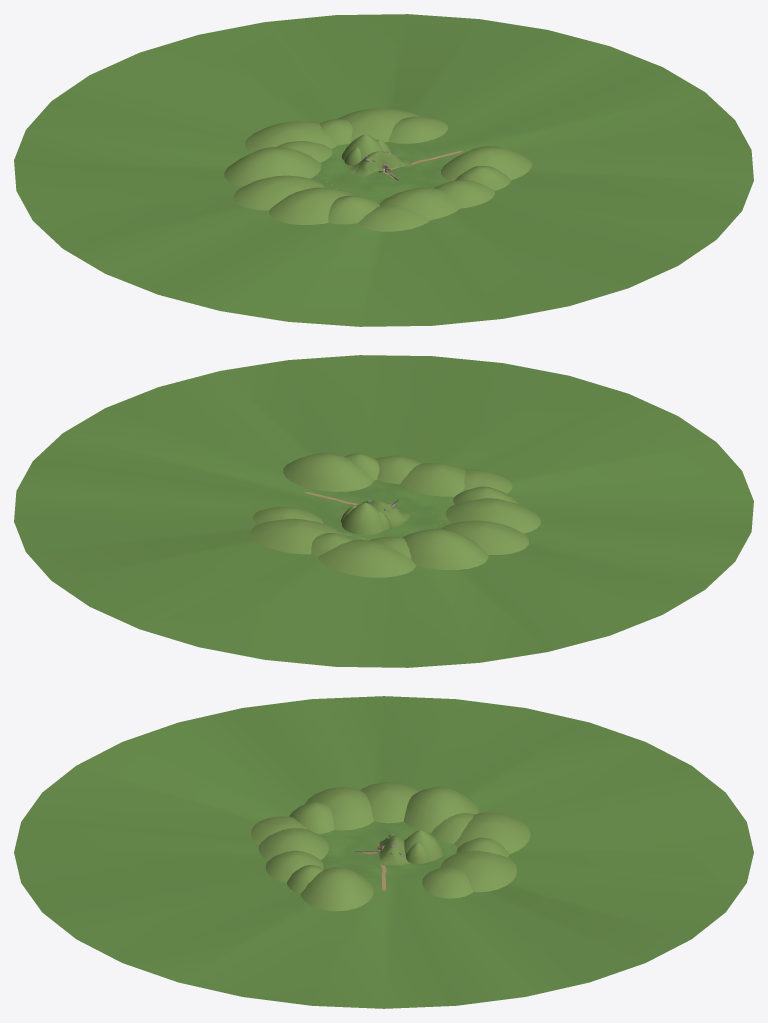
Rendered from village.glb.
The picture shows the model from 3 angles, top to bottom: view 1: azimuth 30°, elevation 25°; view 2: azimuth 150°, elevation 25°; view 3: azimuth 270°, elevation 25°; orthographic projection.
Parts seen in each view (by area): view 1: horizon, ground, caveCliff, caveHill; view 2: horizon, ground, caveCliff; view 3: horizon, ground, caveCliff, caveHill.
Boxes of the visible parts, x1=… form: horizon: x1=14, y1=14, x2=753, y2=326; ground: x1=317, y1=142, x2=449, y2=202; caveCliff: x1=341, y1=134, x2=397, y2=172; caveHill: x1=346, y1=151, x2=412, y2=177; horizon: x1=14, y1=355, x2=753, y2=667; ground: x1=310, y1=480, x2=454, y2=539; caveCliff: x1=341, y1=500, x2=399, y2=534; horizon: x1=14, y1=696, x2=753, y2=1008; ground: x1=321, y1=826, x2=449, y2=878; caveCliff: x1=381, y1=830, x2=443, y2=864; caveHill: x1=379, y1=835, x2=411, y2=865.
Bounding box in the file's own units: 520 × 18 × 520.
